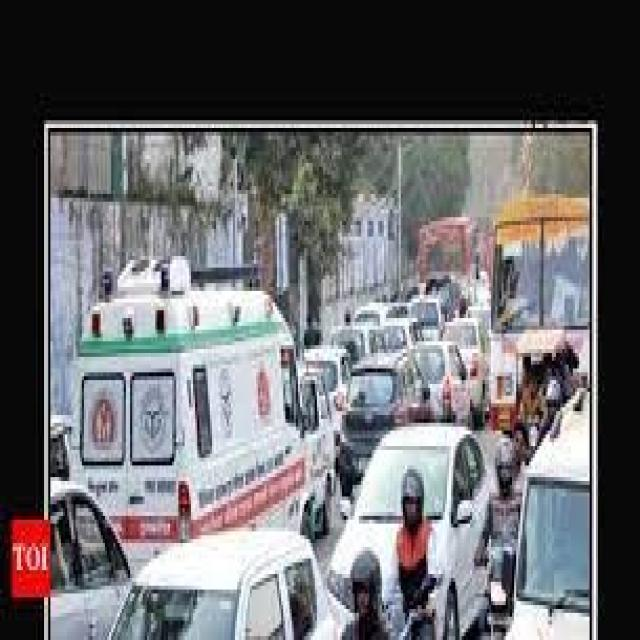ambulance: (70, 262, 308, 544)
